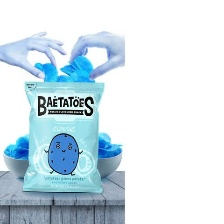snack: (16, 77, 109, 198)
